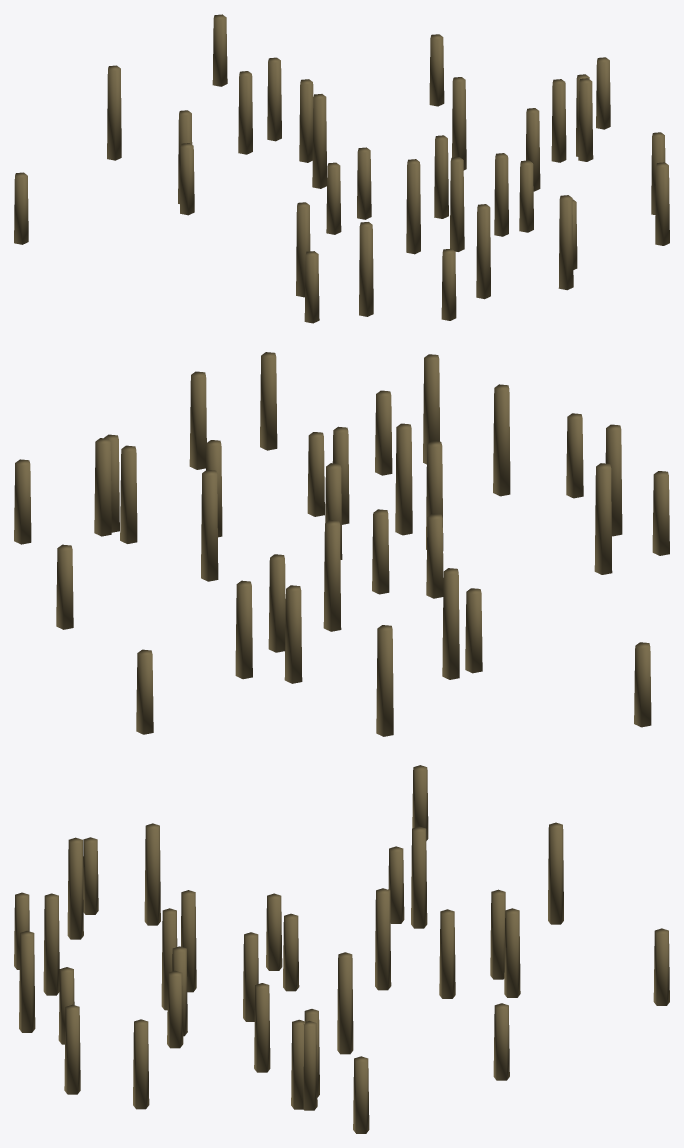
The model's file is reed-0-lod0.gltf.
3 views of the same model, one above another, from view 1: azimuth 30°, elevation 25°; view 2: azimuth 150°, elevation 25°; view 3: azimuth 270°, elevation 25° (orthographic). The views are drawn at different scales.
Visible parts, largest first — view 1: Reed 0 L0; view 2: Reed 0 L0; view 3: Reed 0 L0.
Part boxes in pixels (x1=…): Reed 0 L0: x1=14, y1=14, x2=669, y2=323; Reed 0 L0: x1=14, y1=352, x2=669, y2=736; Reed 0 L0: x1=14, y1=765, x2=669, y2=1133.
Bounding box in the file's own units: 0.625 × 0.094 × 0.5819.
